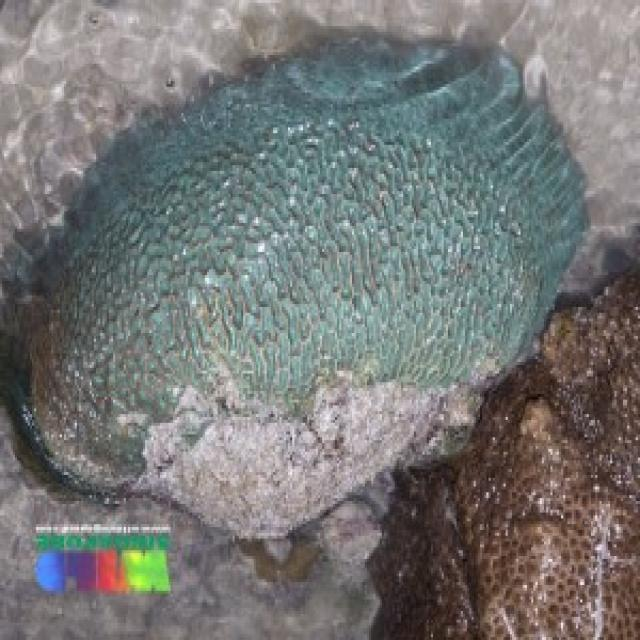Bleached: (133, 385, 485, 545)
Healthy: (16, 39, 583, 498), (410, 286, 640, 636)
